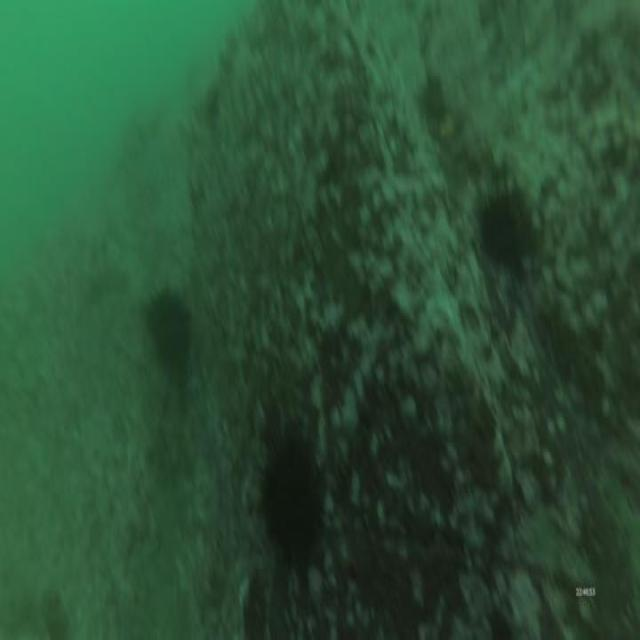echinus: (254, 424, 324, 572), (140, 277, 196, 387), (476, 177, 529, 280)
